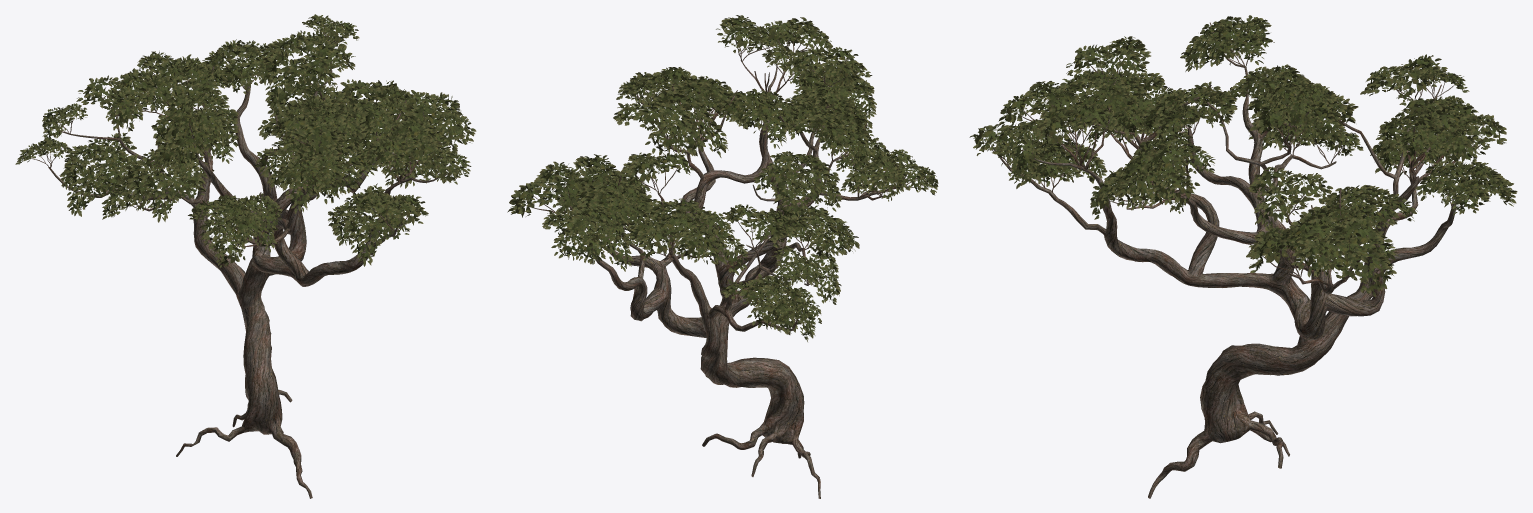
Rendered from old_tree.glb.
3 views of the same model, side by side, from view 1: azimuth 30°, elevation 25°; view 2: azimuth 150°, elevation 25°; view 3: azimuth 270°, elevation 25° (orthographic). The views are drawn at different scales.
Visible parts, largest first — view 1: old tree; view 2: old tree; view 3: old tree.
Boxes of the visible parts, <box> form: old tree: <box>15,14,476,498</box>; old tree: <box>507,15,938,498</box>; old tree: <box>969,15,1517,498</box>.
Bounding box in the file's own units: 5.68 × 6.32 × 6.85.
3 materials, 3 textured.
